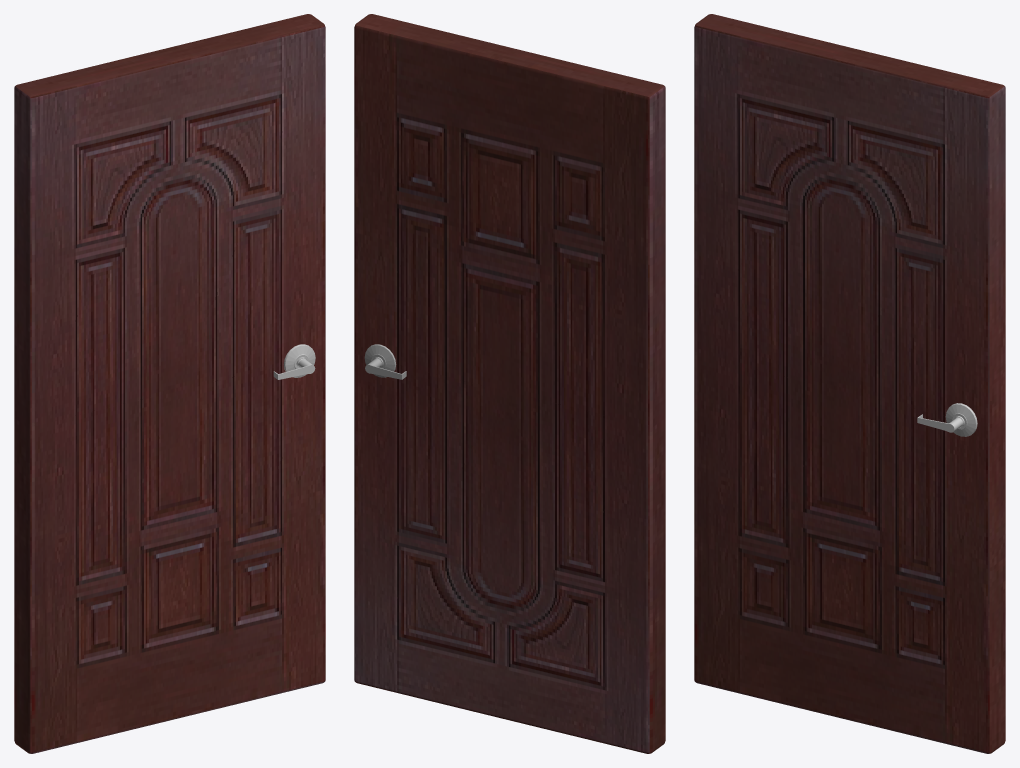
Rendered from InsideDoor.fbx.
3 renders of one model, left to right at view 1: azimuth 30°, elevation 25°; view 2: azimuth 150°, elevation 25°; view 3: azimuth 330°, elevation 25°, orthographic.
Parts seen in each view (by area): view 1: polySurface2; view 2: polySurface2; view 3: polySurface2.
Part boxes in pixels (box(x1,y1,x2,y2)): polySurface2: box(14, 14, 325, 753); polySurface2: box(354, 14, 665, 753); polySurface2: box(694, 14, 1005, 753).
Bounding box in the file's own units: 4.87 × 10.32 × 1.15.
